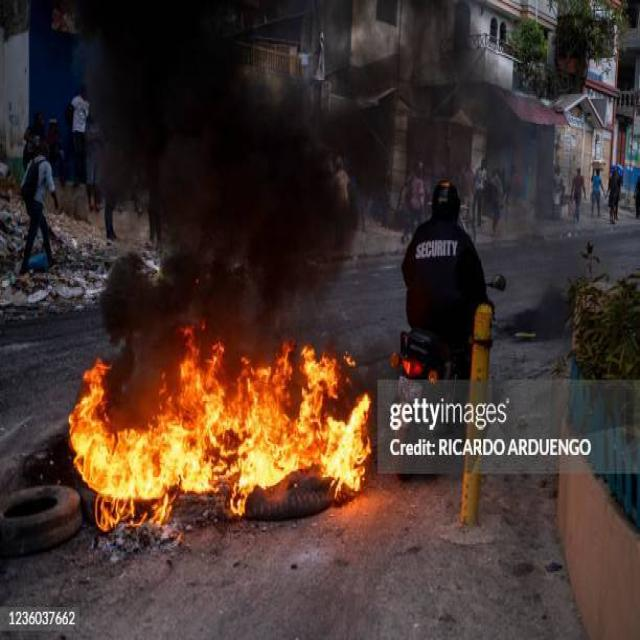fire: (69, 320, 371, 532)
